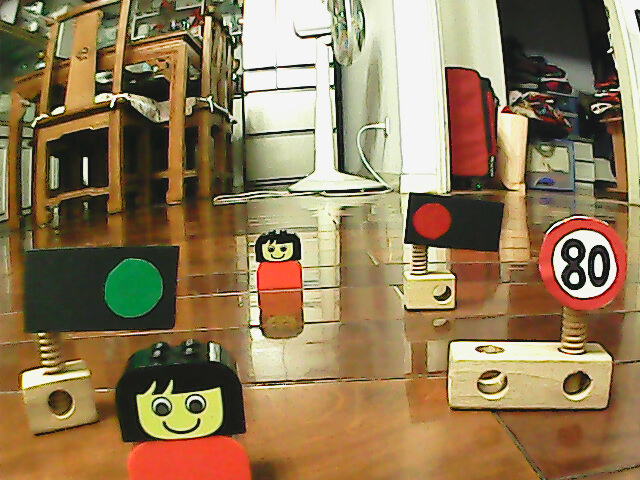Green Traffic Light: (97, 247, 173, 326)
Person: (112, 338, 256, 480), (253, 228, 306, 292)
Red Traffic Light: (408, 194, 454, 245)
Speed Limit 80: (535, 211, 630, 314)
